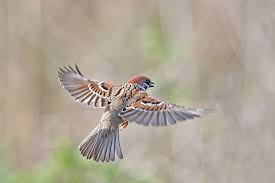hsparrow: (55, 62, 220, 167)
